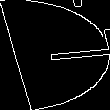L_W: (8, 36, 102, 74)
